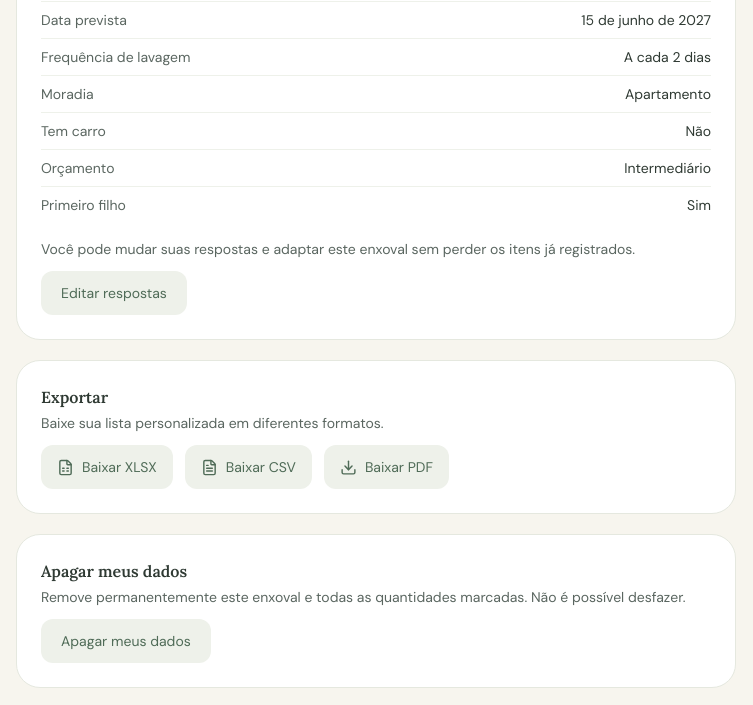
Ajustes › confirma antes de apagar
This screenshot has width=753, height=705.
(page scrolled)
Click the button "Apagar meus dados" at (126, 641), box x1=41 y1=619 x2=211 y2=663
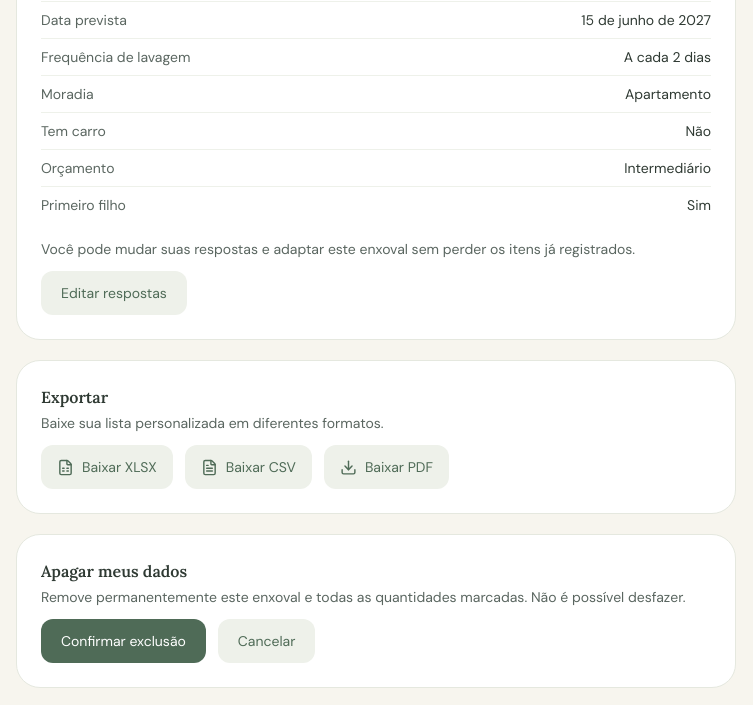
Now the button "Confirmar exclusão" is shown, box x1=41 y1=619 x2=206 y2=663
